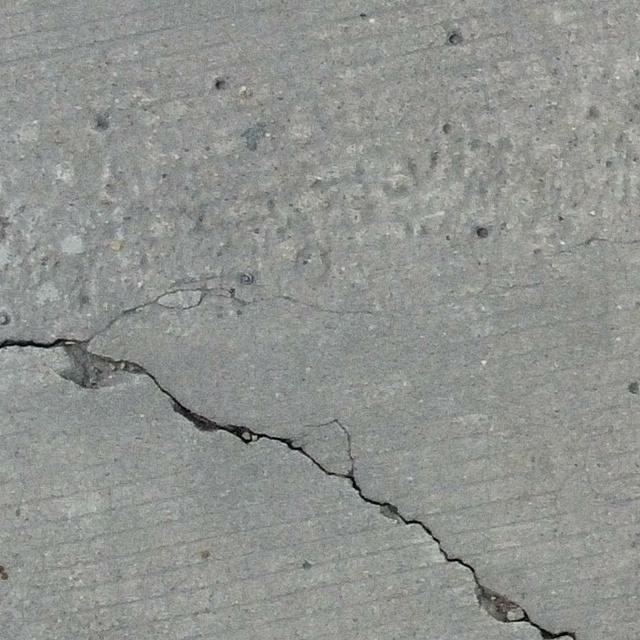TransverseCrack: (1, 337, 575, 640), (92, 288, 373, 338)
